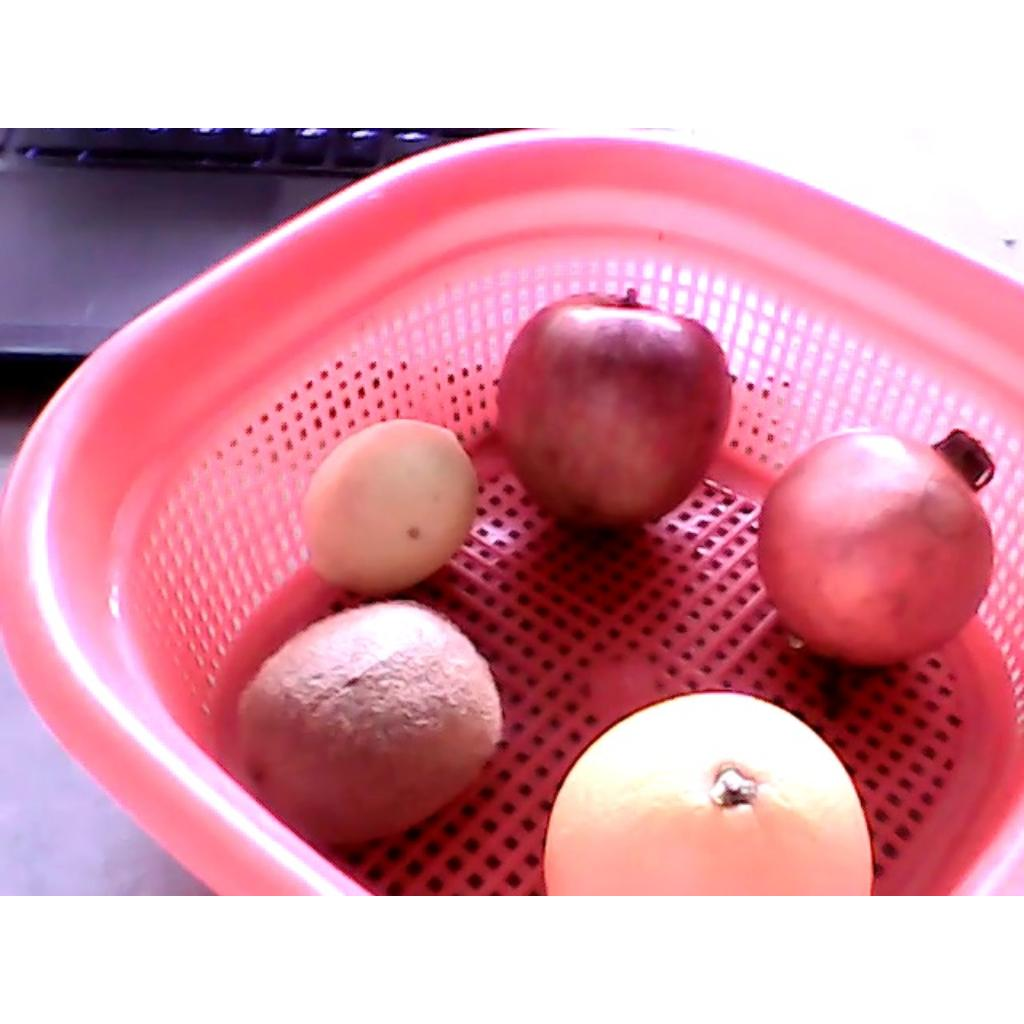apple: (497, 289, 731, 525)
kiwi: (235, 599, 504, 844)
lemon: (301, 418, 477, 592)
orange: (543, 690, 872, 894)
pomegranate: (757, 428, 995, 669)
